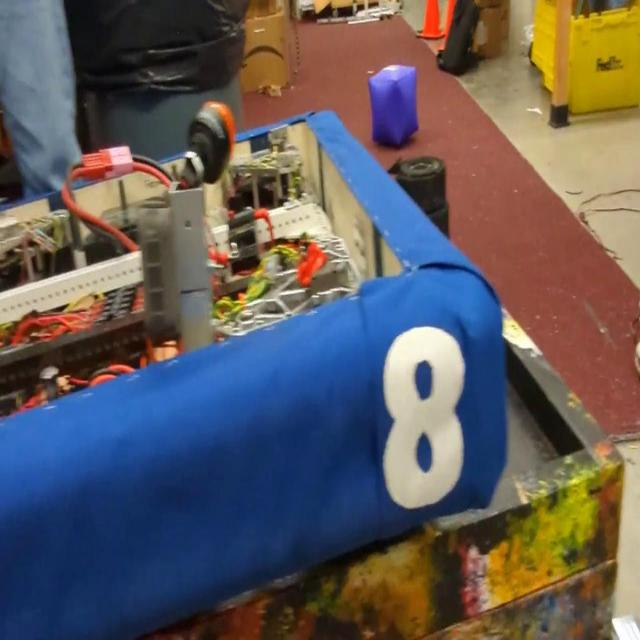frc_cube: (368, 61, 418, 150)
